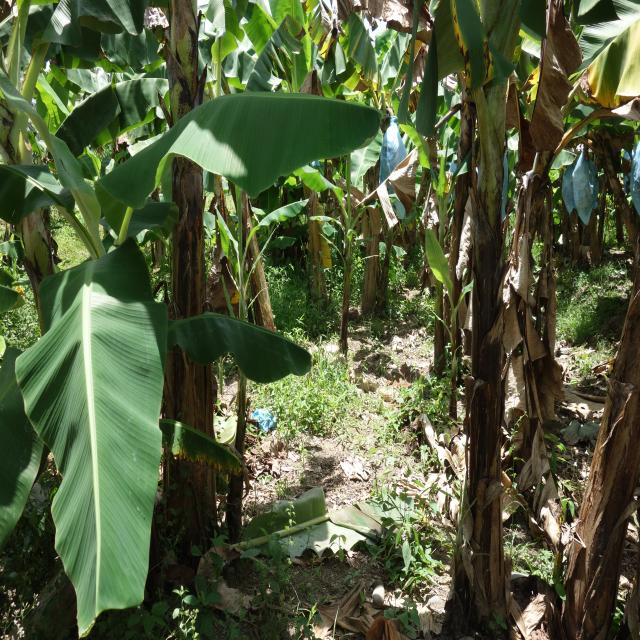Banana-plant: (159, 0, 219, 544), (453, 0, 503, 640)
